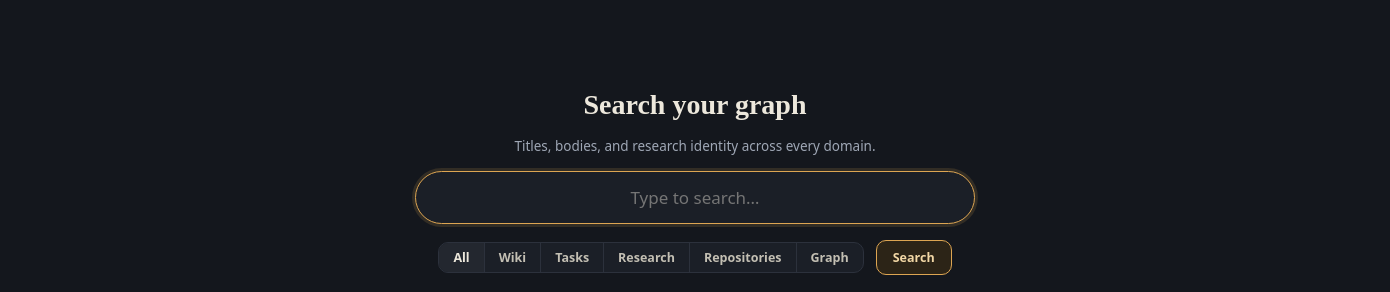
Test: SearchView › runs the search on submit and renders a highlighted snippet
Step 1. Type "attention" into the field labelled "search" → point(695, 197), box x1=415 y1=171 x2=975 y2=224
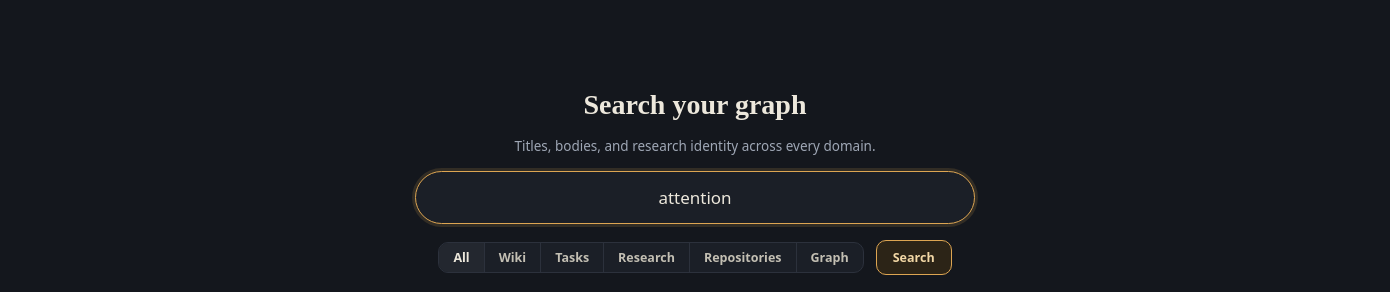
Step 2. Click the button "Search" → point(914, 257), box x1=876 y1=240 x2=952 y2=275
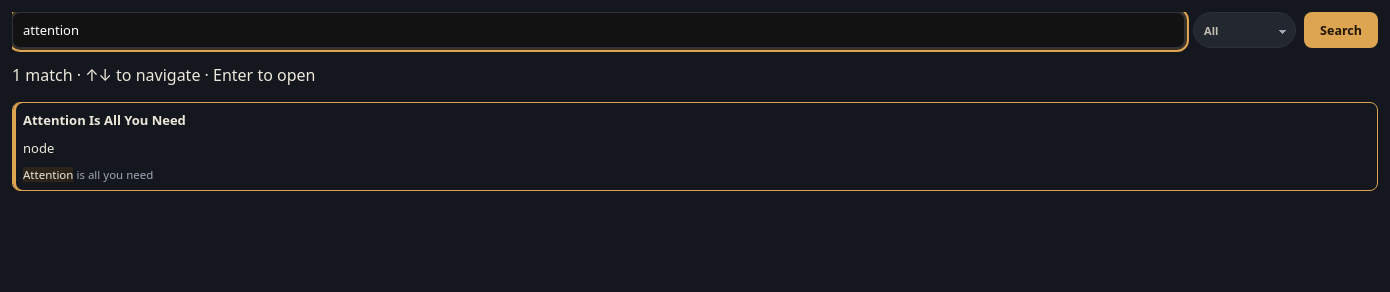
Result: the text "Attention Is All You Need" is shown at x1=23 y1=111 x2=186 y2=129
Result: the text "Attention" is shown at x1=23 y1=167 x2=73 y2=182
